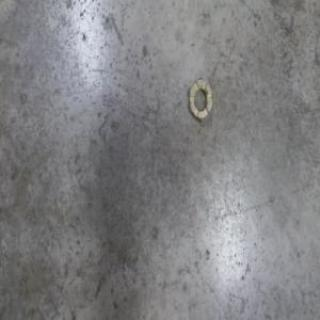Nuttrack_idkeyframe: (188, 75, 212, 123)
